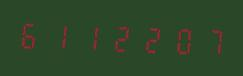one: (46, 17, 74, 54), (75, 18, 103, 55)
seven: (191, 22, 219, 59)
six: (17, 16, 45, 53)
two: (104, 19, 132, 56), (133, 20, 161, 57)
zero: (162, 21, 190, 58)
